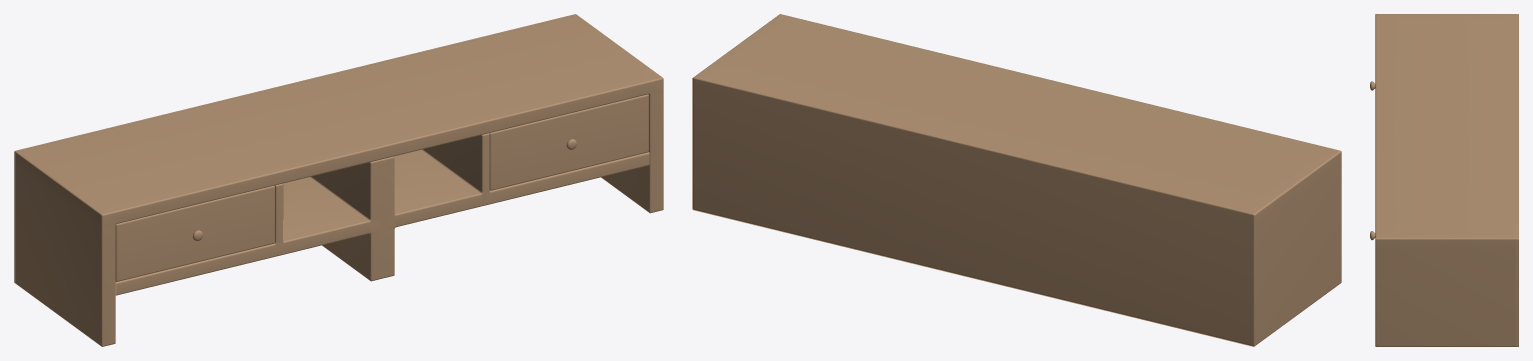
File: MuebleBajo.fbx
3 views of the same model, side by side, from view 1: azimuth 30°, elevation 25°; view 2: azimuth 150°, elevation 25°; view 3: azimuth 270°, elevation 25° (orthographic). The views are drawn at different scales.
Visible parts, largest first — view 1: MuebleBajo; view 2: MuebleBajo; view 3: MuebleBajo.
Part boxes in pixels (box(x1,y1,x2,y2)): MuebleBajo: box(14, 14, 663, 346); MuebleBajo: box(692, 14, 1341, 346); MuebleBajo: box(1370, 14, 1518, 346).
Size of the model in its own units: 1.5 by 0.3377 by 0.4197.
